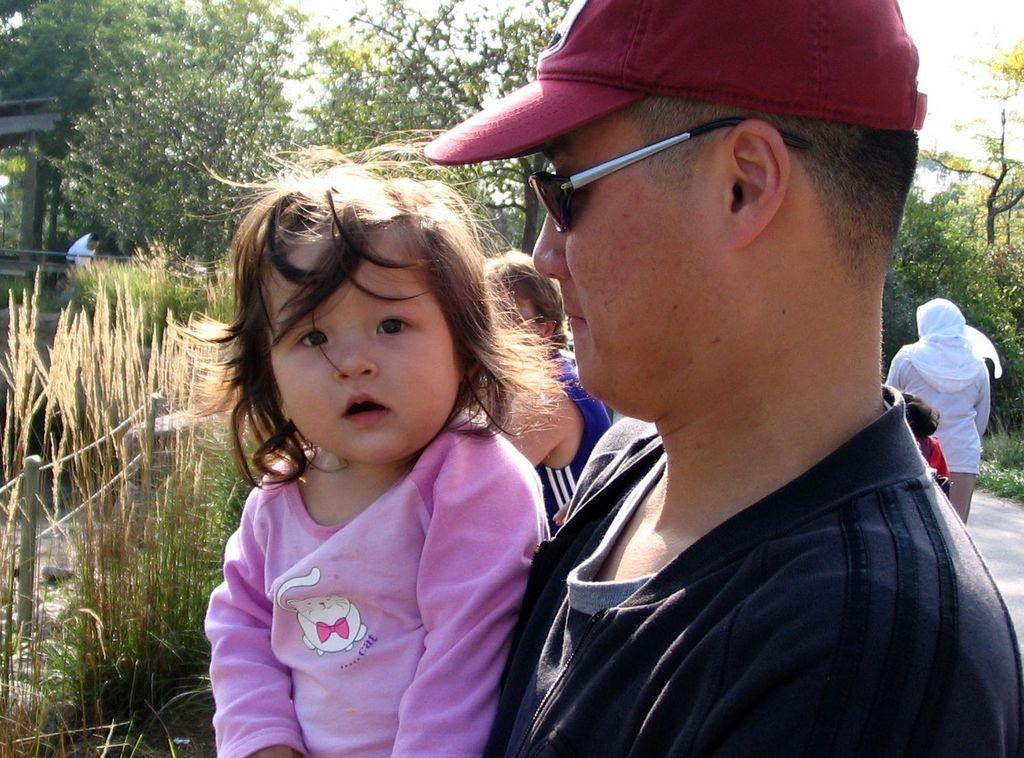Hat: (420, 0, 928, 167)
